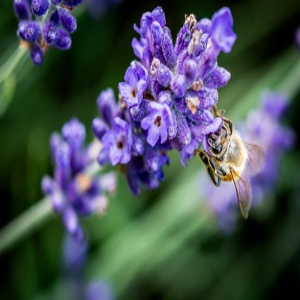bee: (209, 109, 268, 222)
